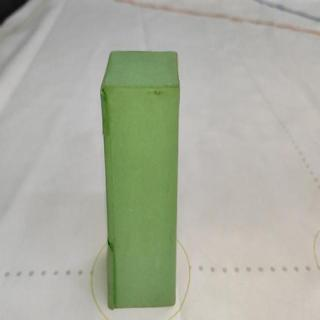greenbox: (97, 48, 183, 307)
